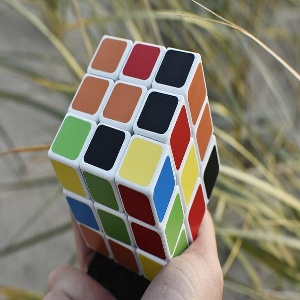cube: (47, 34, 221, 282)
